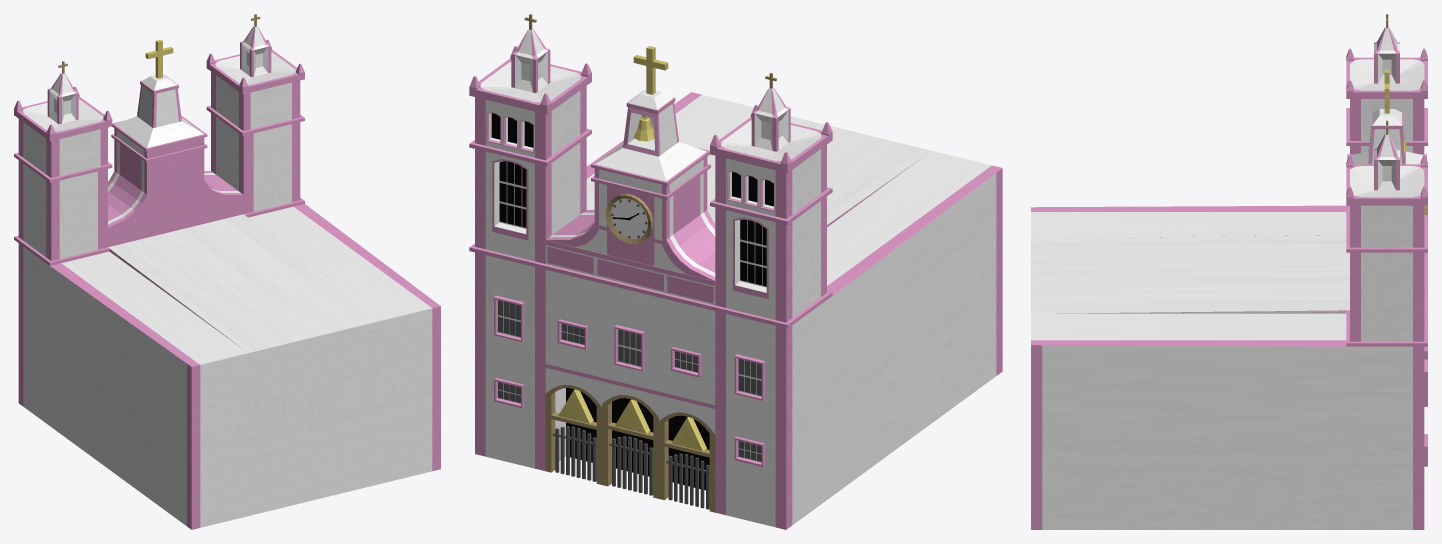
Rendered from igreja.gltf.
3 renders of one model, left to right at view 1: azimuth 30°, elevation 25°; view 2: azimuth 150°, elevation 25°; view 3: azimuth 270°, elevation 25°, orthographic. The views are drawn at different scales.
Visible parts, largest first — view 1: cuboid (×11); view 2: cuboid (×31), tube; view 3: cuboid (×9).
Part boxes in pixels (x1,y1,x2,y2): cuboid (×11): (14, 26, 440, 529); cuboid (×31): (469, 29, 1002, 529); tube: (606, 193, 653, 243); cuboid (×9): (1031, 27, 1427, 529).
Bounding box in the file's own units: 5.62 × 7.31 × 6.69.
Materials: 1 (1 with a texture image).
